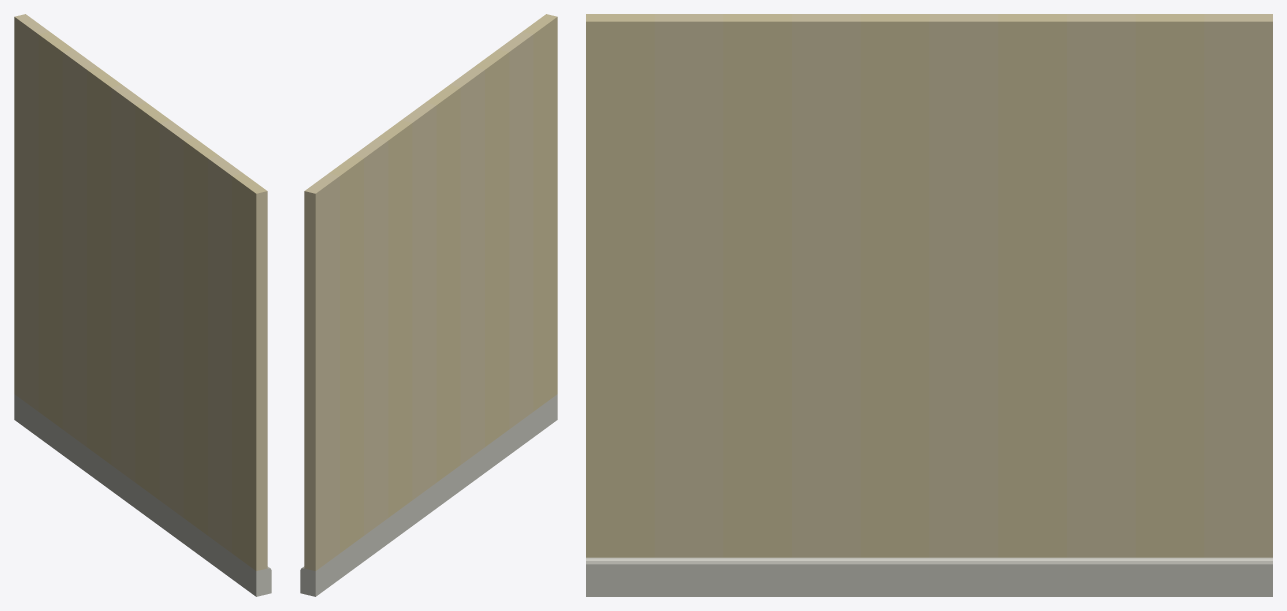
Rendered from InteriorWall_1.fbx.
The picture shows the model from 3 angles, left to right: view 1: azimuth 30°, elevation 25°; view 2: azimuth 150°, elevation 25°; view 3: azimuth 270°, elevation 25°; orthographic projection. The views are drawn at different scales.
Visible parts, largest first — view 1: InteriorWall; view 2: InteriorWall; view 3: InteriorWall.
Boxes of the visible parts, box(x1,y1,x2,y2) form: InteriorWall: box(14, 14, 271, 596); InteriorWall: box(300, 14, 557, 596); InteriorWall: box(586, 14, 1272, 596).
Size of the model in its own units: 14.05 by 356 by 387.
